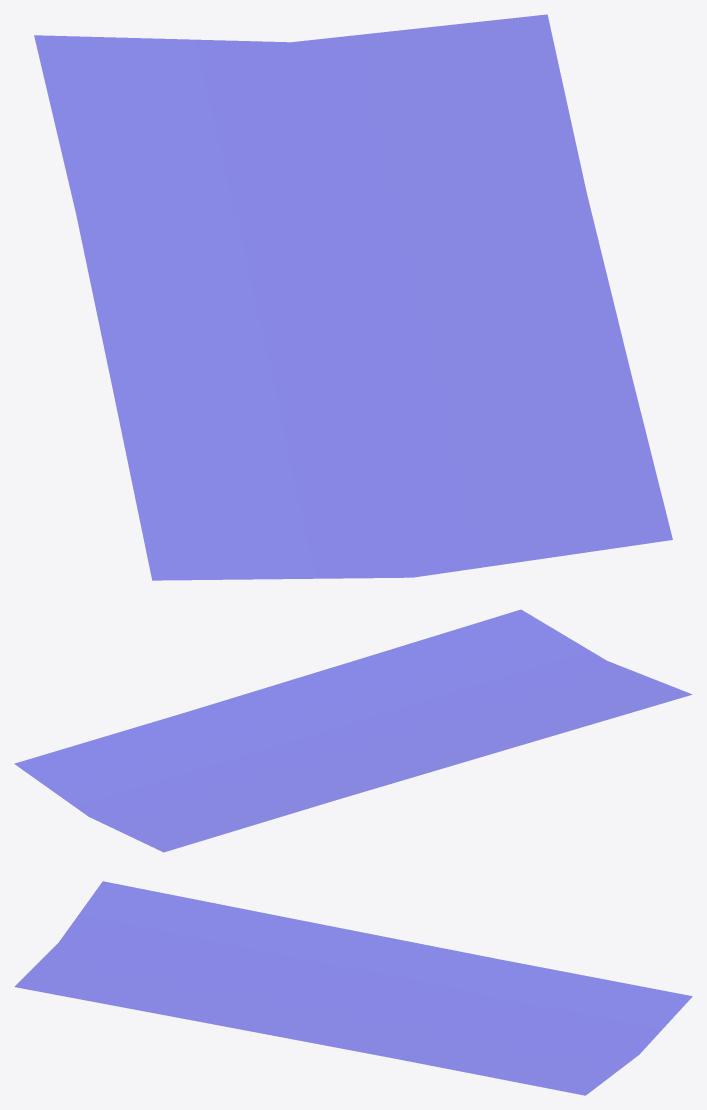
File: track_la_coll_road_51.fbx
3 renders of one model, top to bottom at view 1: azimuth 30°, elevation 25°; view 2: azimuth 150°, elevation 25°; view 3: azimuth 270°, elevation 25°, orthographic. The views are drawn at different scales.
Parts seen in each view (by area): view 1: track_la_coll_road_51; view 2: track_la_coll_road_51; view 3: track_la_coll_road_51.
Boxes of the visible parts, x1,y1,x2,y2 form: track_la_coll_road_51: (34, 14, 672, 580); track_la_coll_road_51: (14, 609, 691, 852); track_la_coll_road_51: (14, 881, 692, 1095).
Size of the model in its own units: 40.14 by 0.7636 by 53.67.
